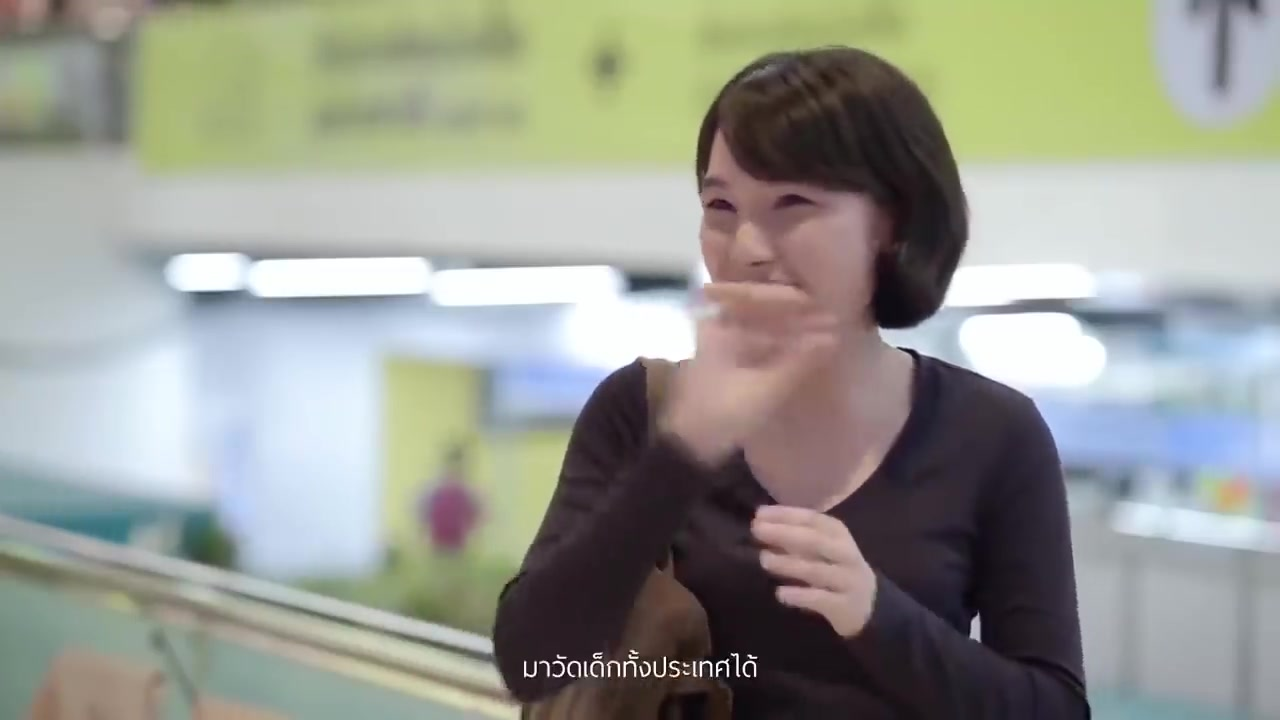text-label: (520, 646, 762, 684)
